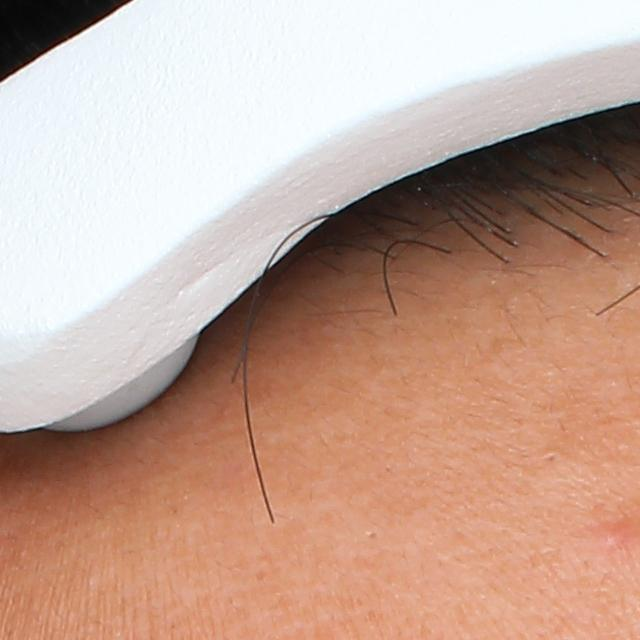comedo: (543, 453, 557, 466), (366, 529, 378, 542)
papule: (591, 516, 626, 557)
